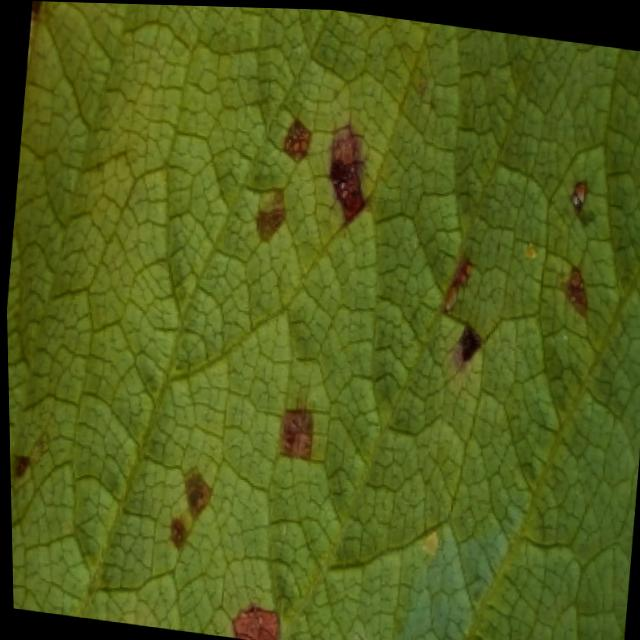Angular Leafspot: (8, 95, 640, 640)
